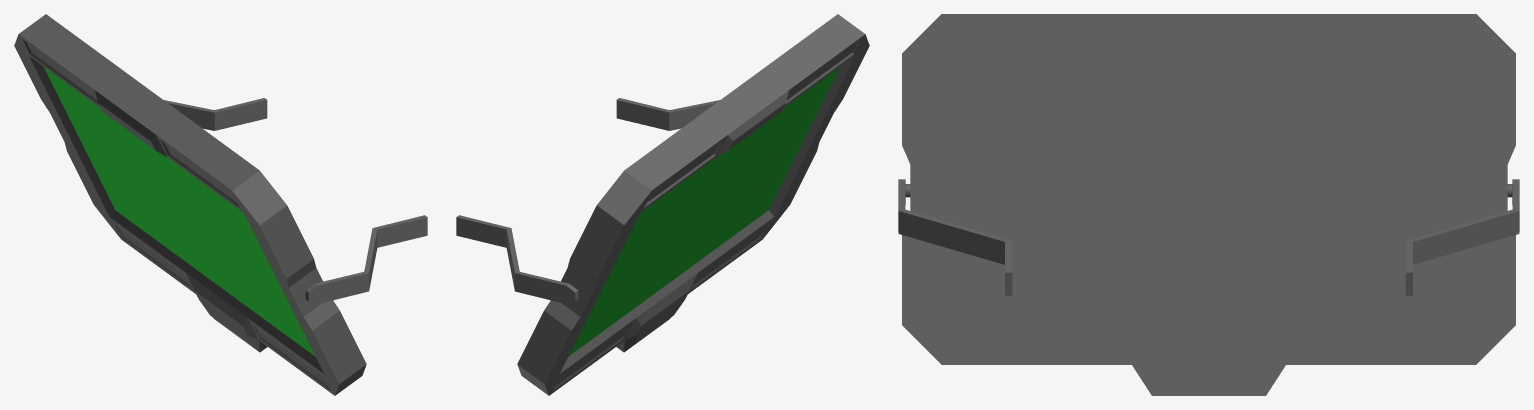
The model's file is Screen1.FBX.
The picture shows the model from 3 angles, left to right: view 1: azimuth 30°, elevation 25°; view 2: azimuth 150°, elevation 25°; view 3: azimuth 270°, elevation 25°; orthographic projection. The views are drawn at different scales.
Parts seen in each view (by area): view 1: Box004; view 2: Box004; view 3: Box004.
Boxes of the visible parts, x1,y1,x2,y2 form: Box004: (14,14,427,395); Box004: (456,14,869,395); Box004: (898,14,1519,395).
Size of the model in its own units: 28.75 by 32.74 by 55.78.
